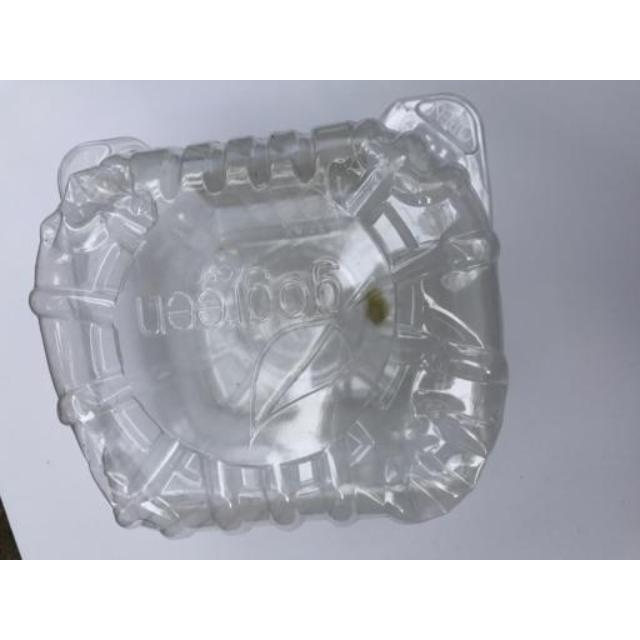plastic: (29, 94, 507, 536)
